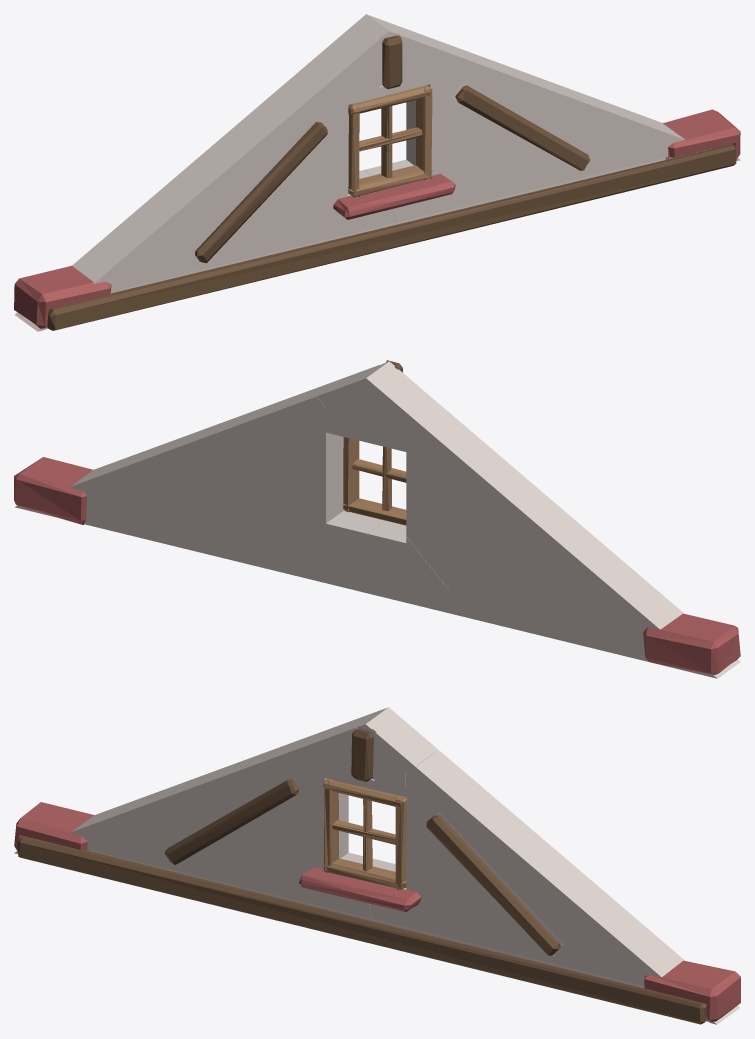
Rendered from PKF_PKX_Gable_4m_Window_v1.fbx.
The picture shows the model from 3 angles, top to bottom: view 1: azimuth 30°, elevation 25°; view 2: azimuth 150°, elevation 25°; view 3: azimuth 330°, elevation 25°; orthographic projection.
Visible parts, largest first — view 1: PKX_Gable_4m_Window_Chunk_12, PKX_Gable_4m_Window_Chunk_03, PKX_Gable_4m_Window_Chunk_06, PKX_Gable_4m_Window_Chunk_02, PKX_Gable_4m_Window_Chunk_10, PKX_Gable_4m_Window_Chunk_04, PKX_Gable_4m_Window_Chunk_05, PKX_Gable_4m_Window_Chunk_07, PKX_Gable_4m_Window_Chunk_09, PKX_Gable_4m_Window_Chunk_11, PKX_Gable_4m_Window_Chunk_14, PKX_Gable_4m_Window_Chunk_00 (+10 smaller); view 2: PKX_Gable_4m_Window_Chunk_03, PKX_Gable_4m_Window_Chunk_02, PKX_Gable_4m_Window_Chunk_04, PKX_Gable_4m_Window_Chunk_06, PKX_Gable_4m_Window_Chunk_05, PKX_Gable_4m_Window_Chunk_09, PKX_Gable_4m_Window_Chunk_07, PKX_Gable_4m_Window_Chunk_10, PKX_Gable_4m_Window_Chunk_00, PKX_Gable_4m_Window_Chunk_11, PKX_Gable_4m_Window_Chunk_01, PKX_Gable_4m_Window_Chunk_08 (+4 smaller); view 3: PKX_Gable_4m_Window_Chunk_12, PKX_Gable_4m_Window_Chunk_02, PKX_Gable_4m_Window_Chunk_06, PKX_Gable_4m_Window_Chunk_09, PKX_Gable_4m_Window_Chunk_04, PKX_Gable_4m_Window_Chunk_07, PKX_Gable_4m_Window_Chunk_03, PKX_Gable_4m_Window_Chunk_05, PKX_Gable_4m_Window_Chunk_11, PKX_Gable_4m_Window_Chunk_10, PKX_Gable_4m_Window_Chunk_15, PKX_Gable_4m_Window_Chunk_00 (+10 smaller).
Boxes of the visible parts, x1,y1,x2,y2 form: PKX_Gable_4m_Window_Chunk_12: (47,144,736,330); PKX_Gable_4m_Window_Chunk_03: (14,195,177,331); PKX_Gable_4m_Window_Chunk_06: (486,58,610,195); PKX_Gable_4m_Window_Chunk_02: (551,95,740,187); PKX_Gable_4m_Window_Chunk_10: (228,43,368,149); PKX_Gable_4m_Window_Chunk_04: (365,127,517,224); PKX_Gable_4m_Window_Chunk_05: (154,147,245,279); PKX_Gable_4m_Window_Chunk_07: (210,132,352,242); PKX_Gable_4m_Window_Chunk_09: (404,32,508,142); PKX_Gable_4m_Window_Chunk_11: (332,14,438,99); PKX_Gable_4m_Window_Chunk_14: (195,122,327,263); PKX_Gable_4m_Window_Chunk_00: (306,170,402,246); PKX_Gable_4m_Window_Chunk_03: (578,542,740,678); PKX_Gable_4m_Window_Chunk_02: (14,442,219,557); PKX_Gable_4m_Window_Chunk_04: (230,477,385,590); PKX_Gable_4m_Window_Chunk_06: (145,405,269,559); PKX_Gable_4m_Window_Chunk_05: (505,494,600,647); PKX_Gable_4m_Window_Chunk_09: (247,380,351,490); PKX_Gable_4m_Window_Chunk_07: (406,479,544,589); PKX_Gable_4m_Window_Chunk_10: (386,391,527,496); PKX_Gable_4m_Window_Chunk_00: (355,521,448,612); PKX_Gable_4m_Window_Chunk_11: (316,361,423,446); PKX_Gable_4m_Window_Chunk_01: (445,554,536,634); PKX_Gable_4m_Window_Chunk_08: (406,464,479,524); PKX_Gable_4m_Window_Chunk_12: (17,836,706,1024); PKX_Gable_4m_Window_Chunk_02: (530,896,740,1024); PKX_Gable_4m_Window_Chunk_06: (469,809,609,959); PKX_Gable_4m_Window_Chunk_09: (380,750,507,877); PKX_Gable_4m_Window_Chunk_04: (352,856,495,951); PKX_Gable_4m_Window_Chunk_07: (210,758,348,894); PKX_Gable_4m_Window_Chunk_03: (14,785,175,864); PKX_Gable_4m_Window_Chunk_05: (146,764,232,879); PKX_Gable_4m_Window_Chunk_11: (331,707,438,790); PKX_Gable_4m_Window_Chunk_10: (228,720,353,789); PKX_Gable_4m_Window_Chunk_15: (426,815,560,955); PKX_Gable_4m_Window_Chunk_00: (283,846,386,921).
Bounding box in the file's own units: 421 × 123 × 40.64.
